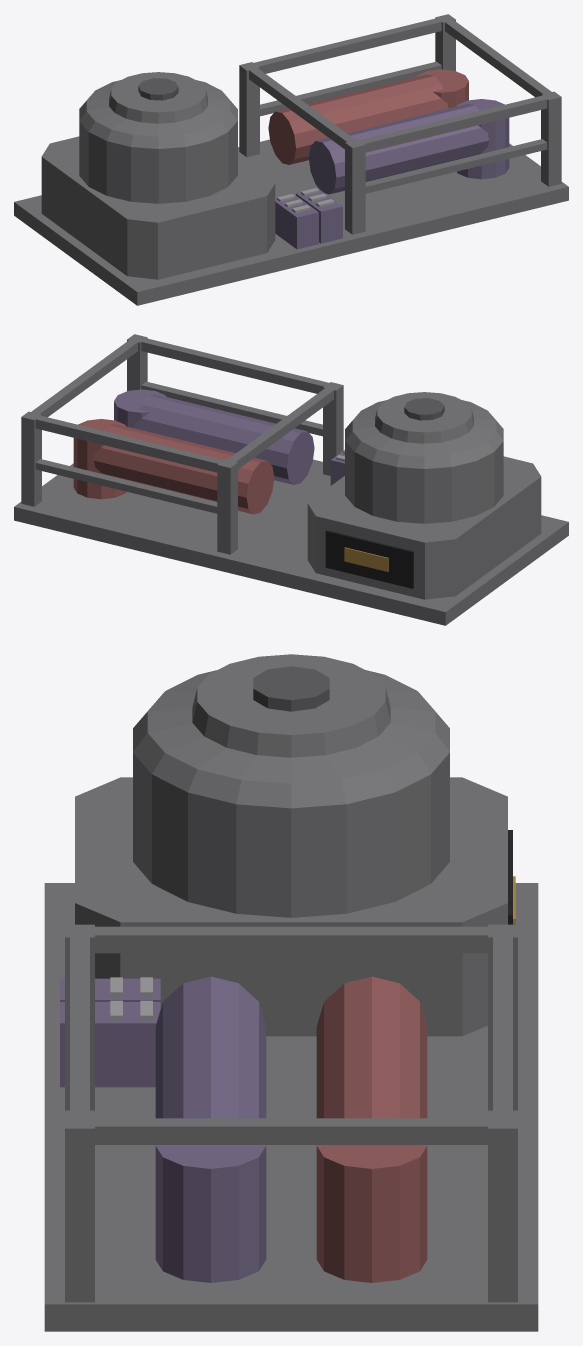
File: vge_astrofuel_synthesizer.obj
3 views of the same model, one above another, from view 1: azimuth 30°, elevation 25°; view 2: azimuth 150°, elevation 25°; view 3: azimuth 270°, elevation 25° (orthographic). The views are drawn at different scales.
Visible parts, largest first — view 1: vge_astrofuel_synthesizer_0, vge_astrofuel_synthesizer_1, vge_astrofuel_synthesizer_2, vge_astrofuel_synthesizer_24, vge_astrofuel_synthesizer_26, vge_astrofuel_synthesizer_20, vge_astrofuel_synthesizer_18, vge_astrofuel_synthesizer_19, vge_astrofuel_synthesizer_14, vge_astrofuel_synthesizer_22, vge_astrofuel_synthesizer_16, vge_astrofuel_synthesizer_23 (+8 smaller); view 2: vge_astrofuel_synthesizer_0, vge_astrofuel_synthesizer_2, vge_astrofuel_synthesizer_1, vge_astrofuel_synthesizer_26, vge_astrofuel_synthesizer_24, vge_astrofuel_synthesizer_4, vge_astrofuel_synthesizer_18, vge_astrofuel_synthesizer_20, vge_astrofuel_synthesizer_21, vge_astrofuel_synthesizer_15, vge_astrofuel_synthesizer_22, vge_astrofuel_synthesizer_17 (+8 smaller); view 3: vge_astrofuel_synthesizer_0, vge_astrofuel_synthesizer_2, vge_astrofuel_synthesizer_1, vge_astrofuel_synthesizer_25, vge_astrofuel_synthesizer_27, vge_astrofuel_synthesizer_24, vge_astrofuel_synthesizer_26, vge_astrofuel_synthesizer_22, vge_astrofuel_synthesizer_23, vge_astrofuel_synthesizer_17, vge_astrofuel_synthesizer_16, vge_astrofuel_synthesizer_10 (+6 smaller).
Part boxes in pixels (left/top/right/bottom): vge_astrofuel_synthesizer_0: left=14, top=139, right=568, bottom=305; vge_astrofuel_synthesizer_1: left=41, top=136, right=275, bottom=279; vge_astrofuel_synthesizer_2: left=79, top=72, right=237, bottom=203; vge_astrofuel_synthesizer_24: left=268, top=74, right=448, bottom=164; vge_astrofuel_synthesizer_26: left=308, top=103, right=488, bottom=194; vge_astrofuel_synthesizer_20: left=247, top=17, right=447, bottom=73; vge_astrofuel_synthesizer_18: left=359, top=95, right=553, bottom=152; vge_astrofuel_synthesizer_19: left=365, top=139, right=547, bottom=193; vge_astrofuel_synthesizer_14: left=345, top=139, right=365, bottom=234; vge_astrofuel_synthesizer_22: left=245, top=66, right=358, bottom=149; vge_astrofuel_synthesizer_16: left=541, top=91, right=561, bottom=186; vge_astrofuel_synthesizer_23: left=442, top=17, right=555, bottom=97; vge_astrofuel_synthesizer_0: left=14, top=459, right=568, bottom=625; vge_astrofuel_synthesizer_2: left=345, top=392, right=503, bottom=523; vge_astrofuel_synthesizer_1: left=307, top=456, right=541, bottom=599; vge_astrofuel_synthesizer_26: left=134, top=394, right=314, bottom=484; vge_astrofuel_synthesizer_24: left=94, top=423, right=274, bottom=514; vge_astrofuel_synthesizer_4: left=325, top=530, right=413, bottom=588; vge_astrofuel_synthesizer_18: left=136, top=337, right=335, bottom=393; vge_astrofuel_synthesizer_20: left=29, top=415, right=223, bottom=472; vge_astrofuel_synthesizer_21: left=35, top=459, right=217, bottom=513; vge_astrofuel_synthesizer_15: left=217, top=459, right=237, bottom=554; vge_astrofuel_synthesizer_22: left=224, top=387, right=336, bottom=469; vge_astrofuel_synthesizer_17: left=21, top=411, right=41, bottom=506; vge_astrofuel_synthesizer_0: left=44, top=883, right=538, bottom=1331; vge_astrofuel_synthesizer_2: left=133, top=654, right=449, bottom=917; vge_astrofuel_synthesizer_1: left=75, top=777, right=507, bottom=1036; vge_astrofuel_synthesizer_25: left=316, top=1145, right=427, bottom=1282; vge_astrofuel_synthesizer_27: left=155, top=1145, right=266, bottom=1282; vge_astrofuel_synthesizer_24: left=316, top=976, right=427, bottom=1118; vge_astrofuel_synthesizer_26: left=155, top=976, right=266, bottom=1118; vge_astrofuel_synthesizer_22: left=80, top=926, right=502, bottom=953; vge_astrofuel_synthesizer_23: left=95, top=1118, right=501, bottom=1144; vge_astrofuel_synthesizer_17: left=488, top=1116, right=517, bottom=1302; vge_astrofuel_synthesizer_16: left=65, top=1116, right=94, bottom=1302; vge_astrofuel_synthesizer_10: left=60, top=1002, right=160, bottom=1087.
Size of the model in its own units: 3.96 by 1.35 by 1.96.
